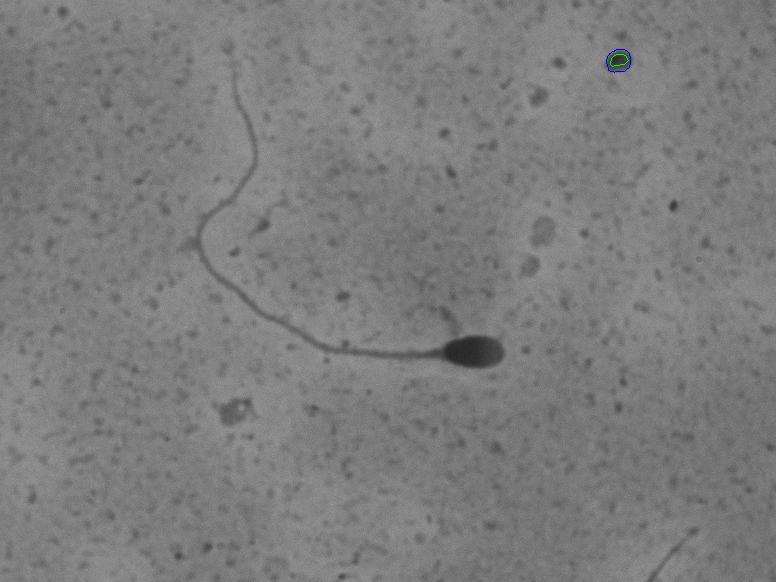Normal: (138, 64, 534, 397)
